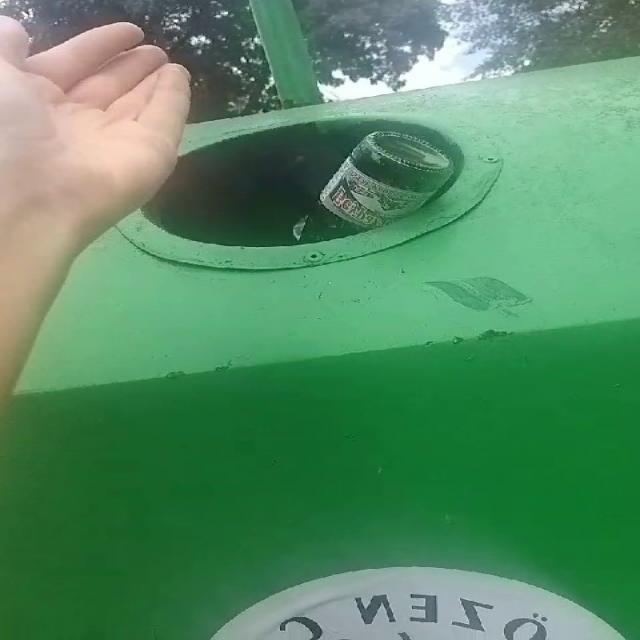glass: (292, 132, 453, 242)
